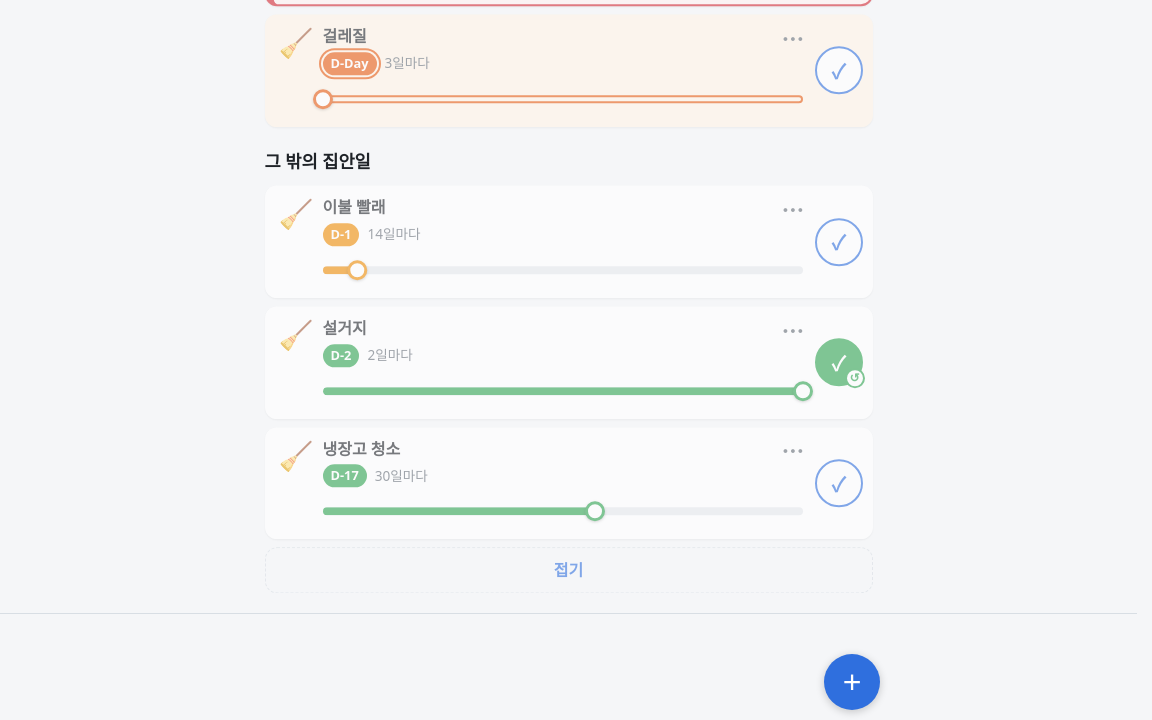
it: 완료 체크 (F3) › 오늘 완료 취소 (U6) › 완료 취소에 실패하면 완료한 상태로 되돌리고 오류를 알린다. 오늘 완료 기록이 없으면(404) 따로 안내한다
(page scrolled)
Click the button "✓ ↺" at (838, 362), box [814,338,862,386]
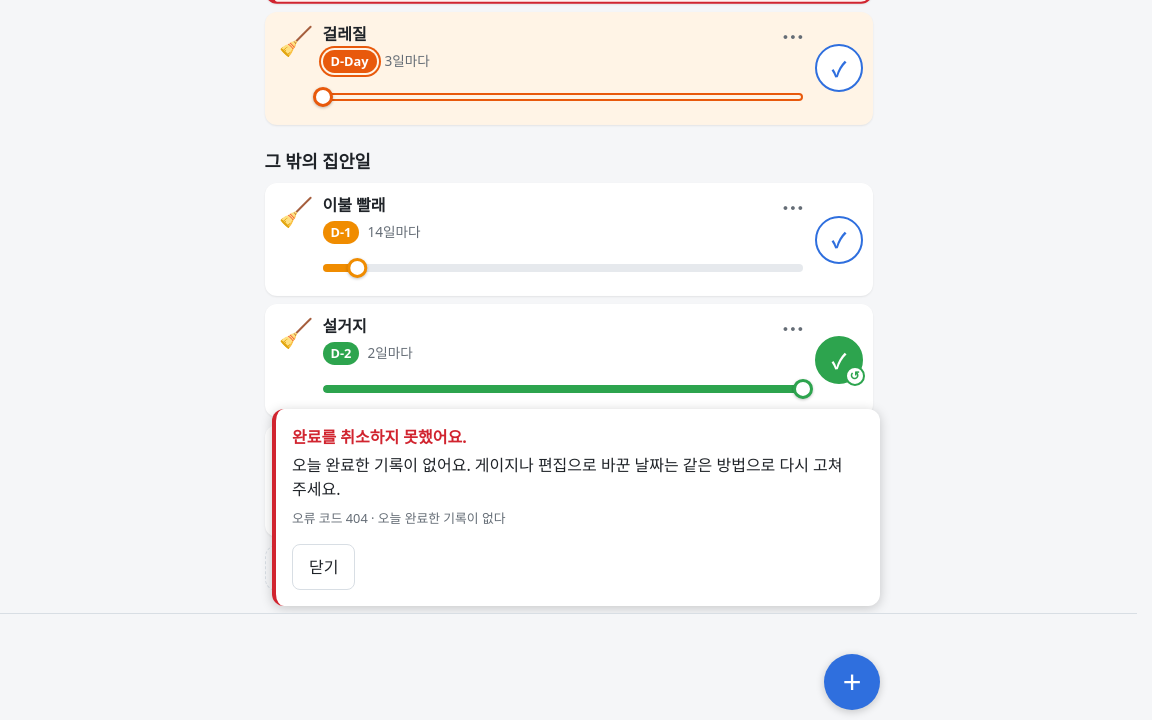
Expected: the text with class "badge__text" reads "D-2", [330,343,351,361]
Result: the text with class "error-notice__title" reads "완료를 취소하지 못했어요." at [292,426,467,448]
Result: the text with class "error-notice__hint" shows "오늘 완료한 기록이 없어요." at [292,454,842,500]
